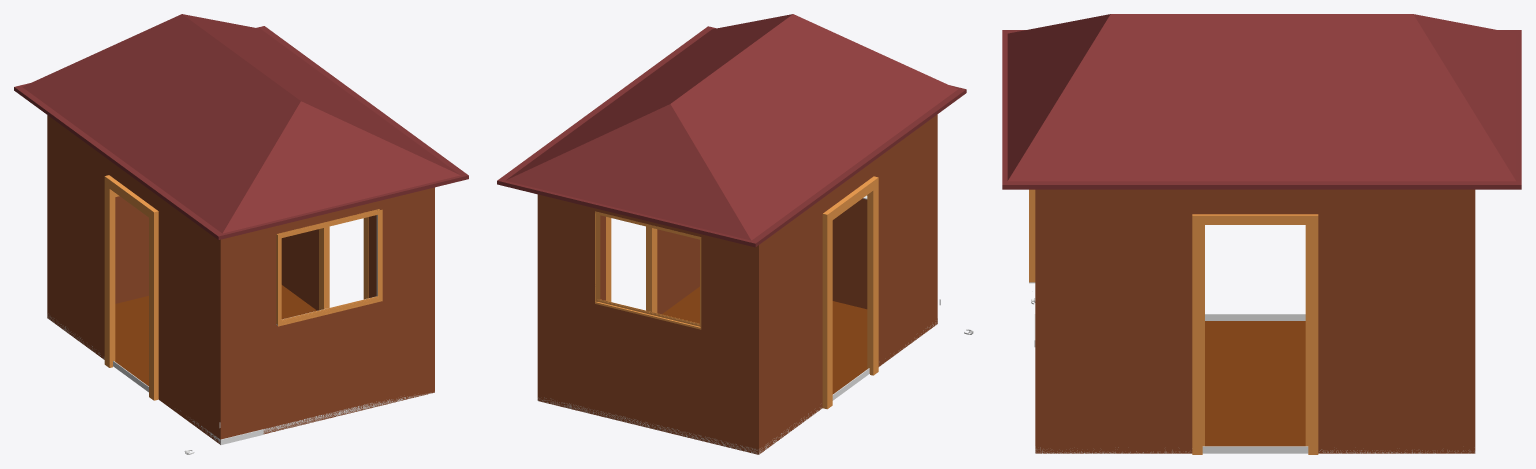
File: house.gltf
The picture shows the model from 3 angles, left to right: view 1: azimuth 30°, elevation 25°; view 2: azimuth 150°, elevation 25°; view 3: azimuth 270°, elevation 25°; orthographic projection. The views are drawn at different scales.
Parts seen in each view (by area): view 1: Plane; view 2: Plane; view 3: Plane.
Part boxes in pixels (bbox=[...]): Plane: bbox=[14, 14, 468, 454]; Plane: bbox=[497, 14, 973, 454]; Plane: bbox=[1002, 14, 1521, 454].
Bounding box in the file's own units: 6.29 × 6.62 × 8.26.
